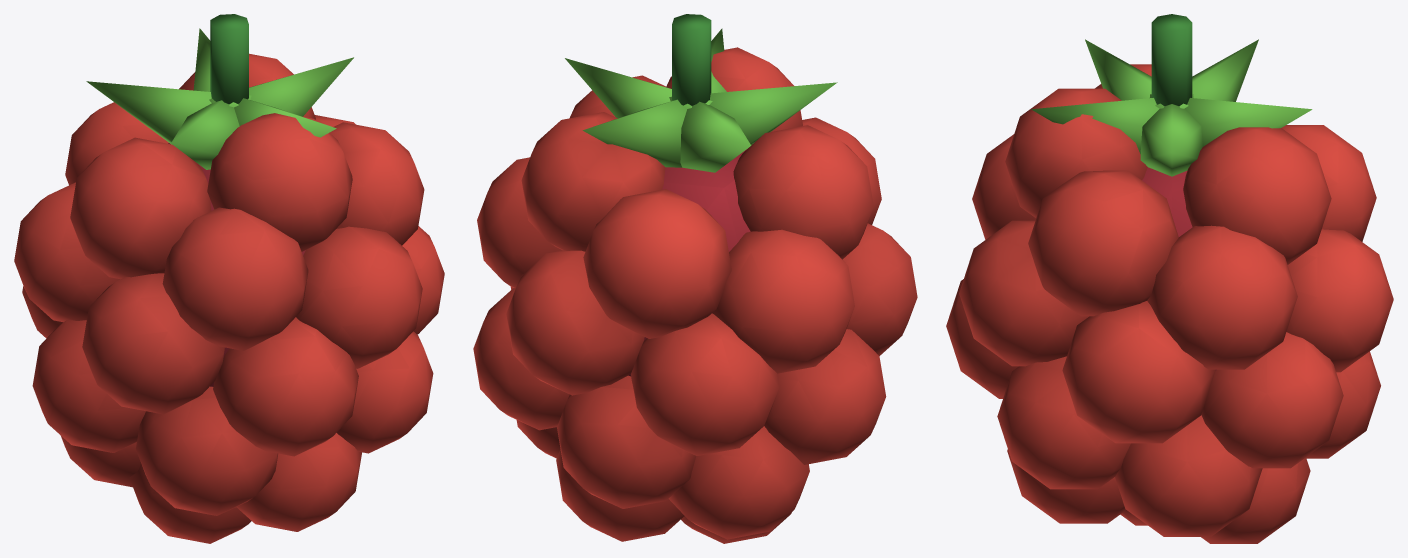
Rendered from col_berry.glb.
3 renders of one model, left to right at view 1: azimuth 30°, elevation 25°; view 2: azimuth 150°, elevation 25°; view 3: azimuth 270°, elevation 25°, orthographic. The views are drawn at different scales.
Visible parts, largest first — view 1: col_berry; view 2: col_berry; view 3: col_berry.
Part boxes in pixels (x1,y1,x2,y2): col_berry: (14, 14, 444, 543); col_berry: (473, 14, 917, 543); col_berry: (946, 14, 1393, 543).
Size of the model in its own units: 0.3236 by 0.42 by 0.33.
